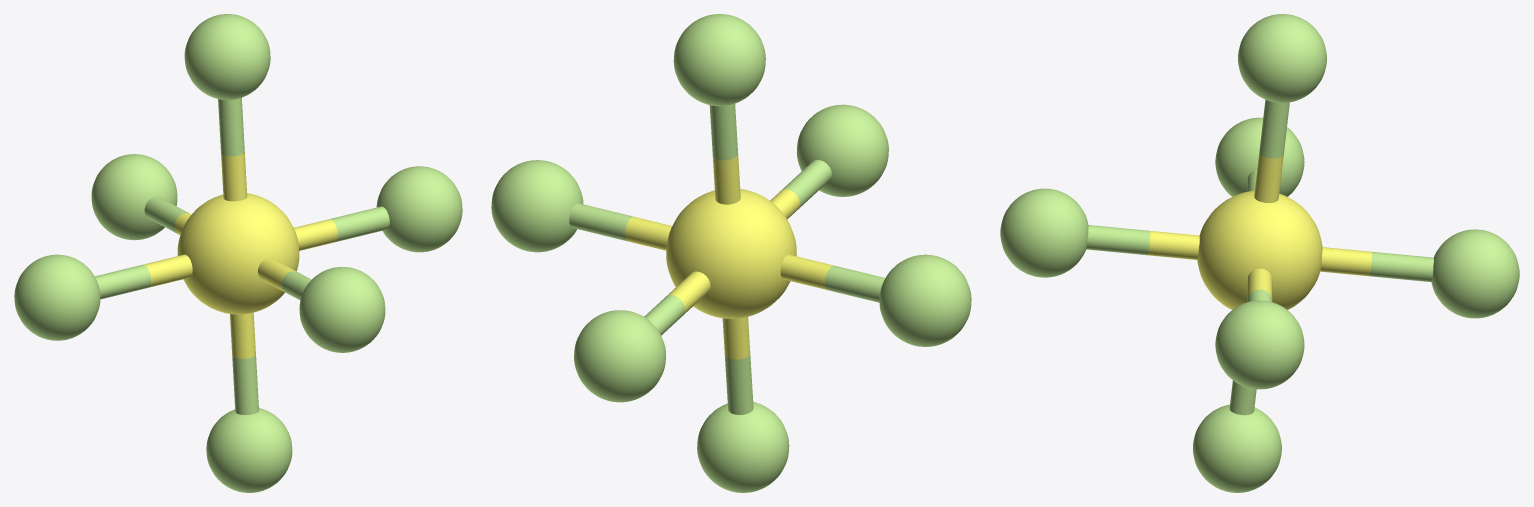
File: sulfur-hexafluoride.fbx
3 views of the same model, side by side, from view 1: azimuth 30°, elevation 25°; view 2: azimuth 150°, elevation 25°; view 3: azimuth 270°, elevation 25° (orthographic). The views are drawn at different scales.
Visible parts, largest first — view 1: Sulfur, F2, F6, F1, F4, F3, F5, S-F1 bond, S-F4 bond, S-F6 bond, S-F3 bond, S-F2 bond (+1 smaller); view 2: Sulfur, F1, F5, F6, F3, F4, F2, S-F6 bond, S-F3 bond, S-F1 bond, S-F4 bond, S-F5 bond (+1 smaller); view 3: Sulfur, F3, F1, F2, F5, F4, F6, S-F5 bond, S-F2 bond, S-F1 bond, S-F3 bond, S-F4 bond.
Part boxes in pixels (x1=…): Sulfur: x1=177, y1=193, x2=299, y2=314; F2: x1=299, y1=267, x2=385, y2=352; F6: x1=14, y1=254, x2=100, y2=340; F1: x1=184, y1=14, x2=270, y2=99; F4: x1=206, y1=408, x2=292, y2=492; F3: x1=376, y1=166, x2=462, y2=252; F5: x1=91, y1=154, x2=177, y2=240; S-F1 bond: x1=218, y1=97, x2=247, y2=201; S-F4 bond: x1=230, y1=312, x2=258, y2=414; S-F6 bond: x1=95, y1=254, x2=192, y2=299; S-F3 bond: x1=294, y1=206, x2=389, y2=250; S-F2 bond: x1=258, y1=258, x2=311, y2=300; Sulfur: x1=666, y1=189, x2=796, y2=318; F1: x1=673, y1=14, x2=765, y2=106; F5: x1=574, y1=310, x2=665, y2=402; F6: x1=879, y1=254, x2=971, y2=346; F3: x1=491, y1=160, x2=583, y2=252; F4: x1=697, y1=402, x2=789, y2=492; F2: x1=796, y1=104, x2=888, y2=196; S-F6 bond: x1=780, y1=254, x2=885, y2=302; S-F3 bond: x1=569, y1=203, x2=671, y2=250; S-F1 bond: x1=709, y1=103, x2=740, y2=204; S-F4 bond: x1=722, y1=317, x2=753, y2=414; S-F5 bond: x1=644, y1=271, x2=710, y2=335; Sulfur: x1=1197, y1=190, x2=1322, y2=309; F3: x1=1215, y1=300, x2=1304, y2=389; F1: x1=1238, y1=14, x2=1326, y2=102; F2: x1=1000, y1=188, x2=1088, y2=277; F5: x1=1431, y1=229, x2=1519, y2=318; F4: x1=1193, y1=404, x2=1281, y2=492; F6: x1=1215, y1=117, x2=1304, y2=196; S-F5 bond: x1=1320, y1=247, x2=1433, y2=282; S-F2 bond: x1=1086, y1=225, x2=1199, y2=259; S-F1 bond: x1=1254, y1=99, x2=1289, y2=202; S-F3 bond: x1=1247, y1=268, x2=1272, y2=301; S-F4 bond: x1=1229, y1=380, x2=1256, y2=415.
Bounding box in the file's own units: 421 × 419 × 419.
